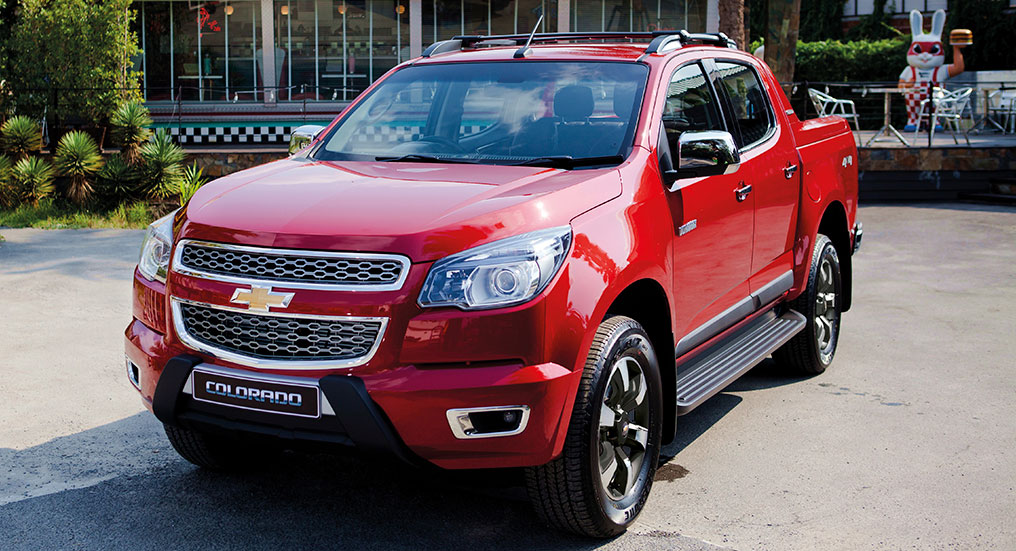pickup: (127, 26, 864, 541)
